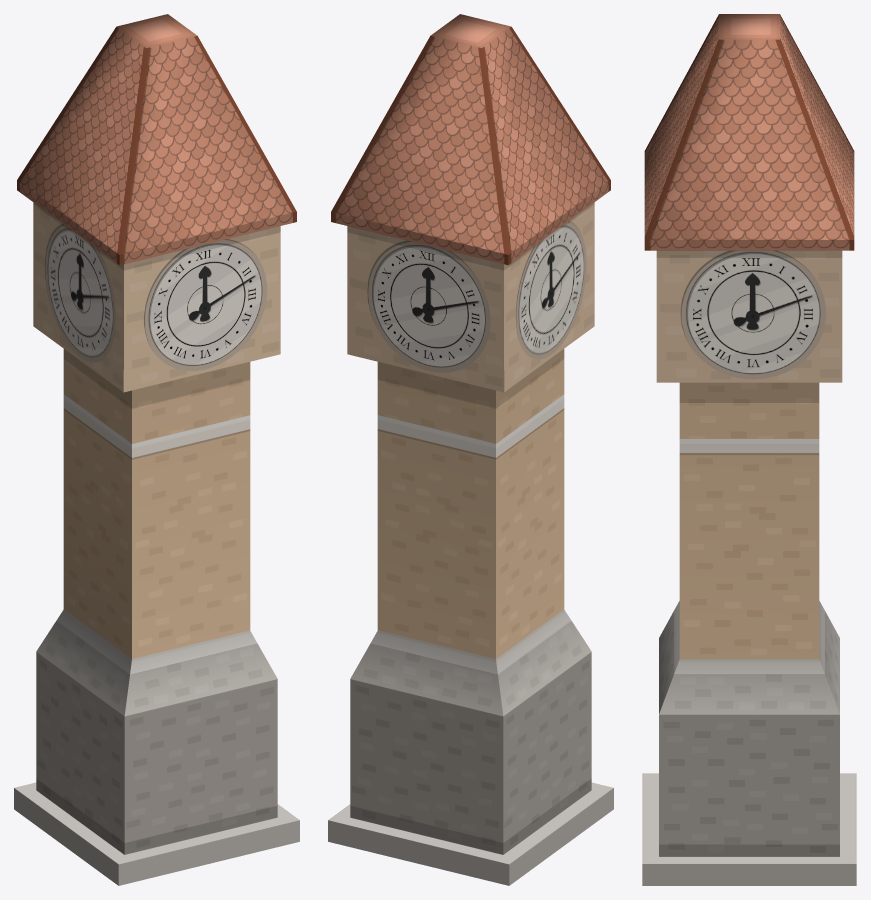
Rendered from city_clock_tower.fbx.
3 renders of one model, left to right at view 1: azimuth 30°, elevation 25°; view 2: azimuth 150°, elevation 25°; view 3: azimuth 270°, elevation 25°, orthographic. The views are drawn at different scales.
Visible parts, largest first — view 1: city:polySurface245; view 2: city:polySurface245; view 3: city:polySurface245.
Boxes of the visible parts, x1,y1,x2,y2 form: city:polySurface245: [14, 14, 299, 885]; city:polySurface245: [328, 14, 613, 885]; city:polySurface245: [642, 14, 856, 885].
Bounding box in the file's own units: 1.88 × 7.89 × 1.88.
